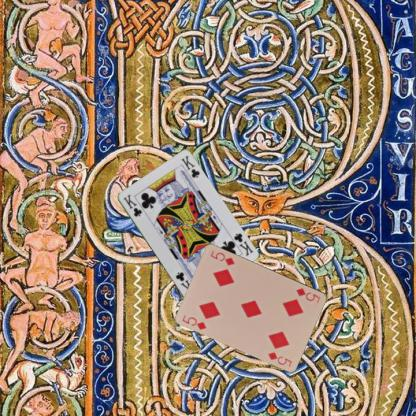5d: (293, 285, 321, 304), (180, 313, 209, 331)
Kc: (231, 231, 254, 257), (121, 192, 143, 218)
